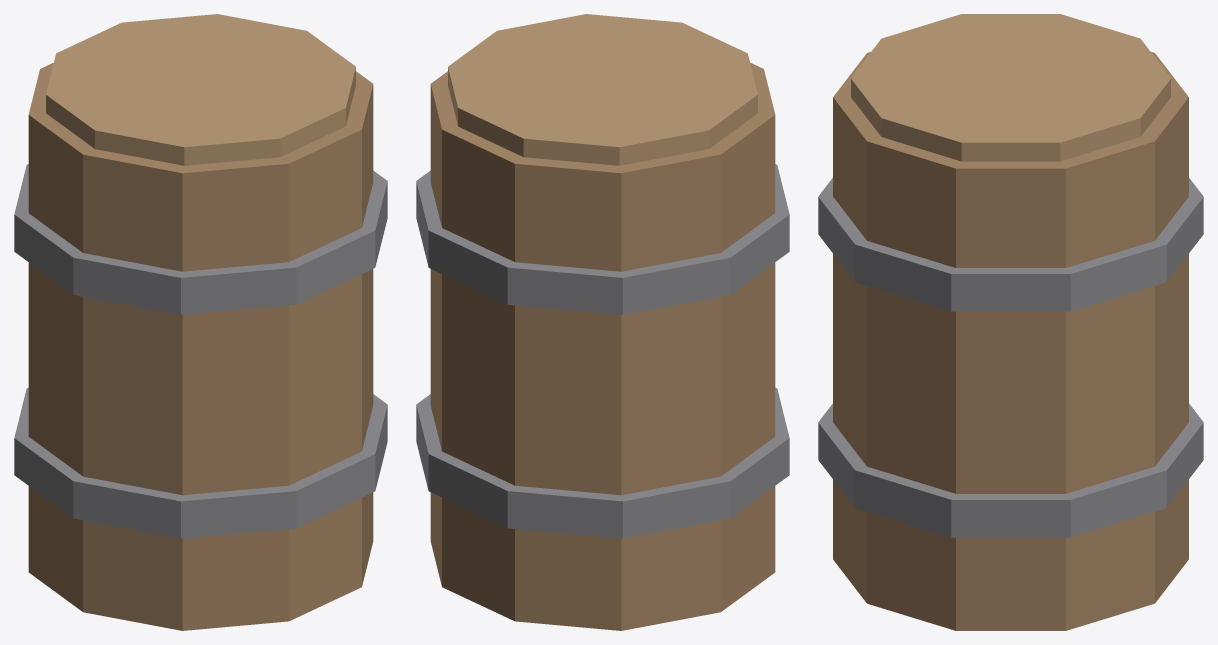
Rendered from barril.glb.
3 views of the same model, side by side, from view 1: azimuth 30°, elevation 25°; view 2: azimuth 150°, elevation 25°; view 3: azimuth 270°, elevation 25° (orthographic).
Parts seen in each view (by area): view 1: barril; view 2: barril; view 3: barril.
Boxes of the visible parts, x1,y1,x2,y2 form: barril: [14, 14, 387, 630]; barril: [416, 14, 789, 630]; barril: [818, 14, 1203, 630].
Size of the model in its own units: 0.6182 by 0.895 by 0.65.
